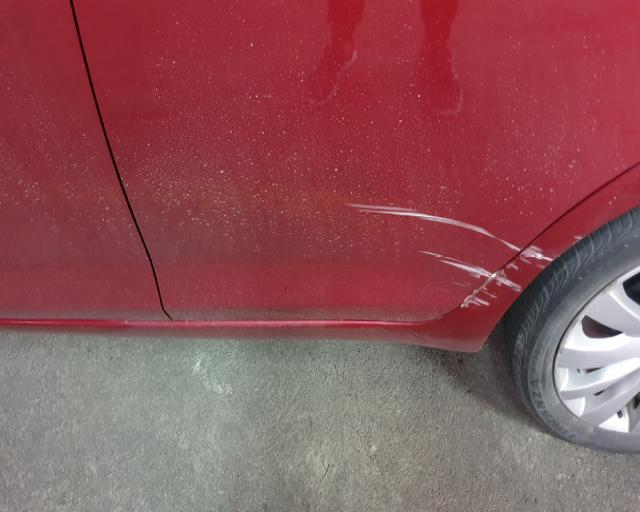scratch: (342, 200, 519, 300), (455, 246, 560, 314)
